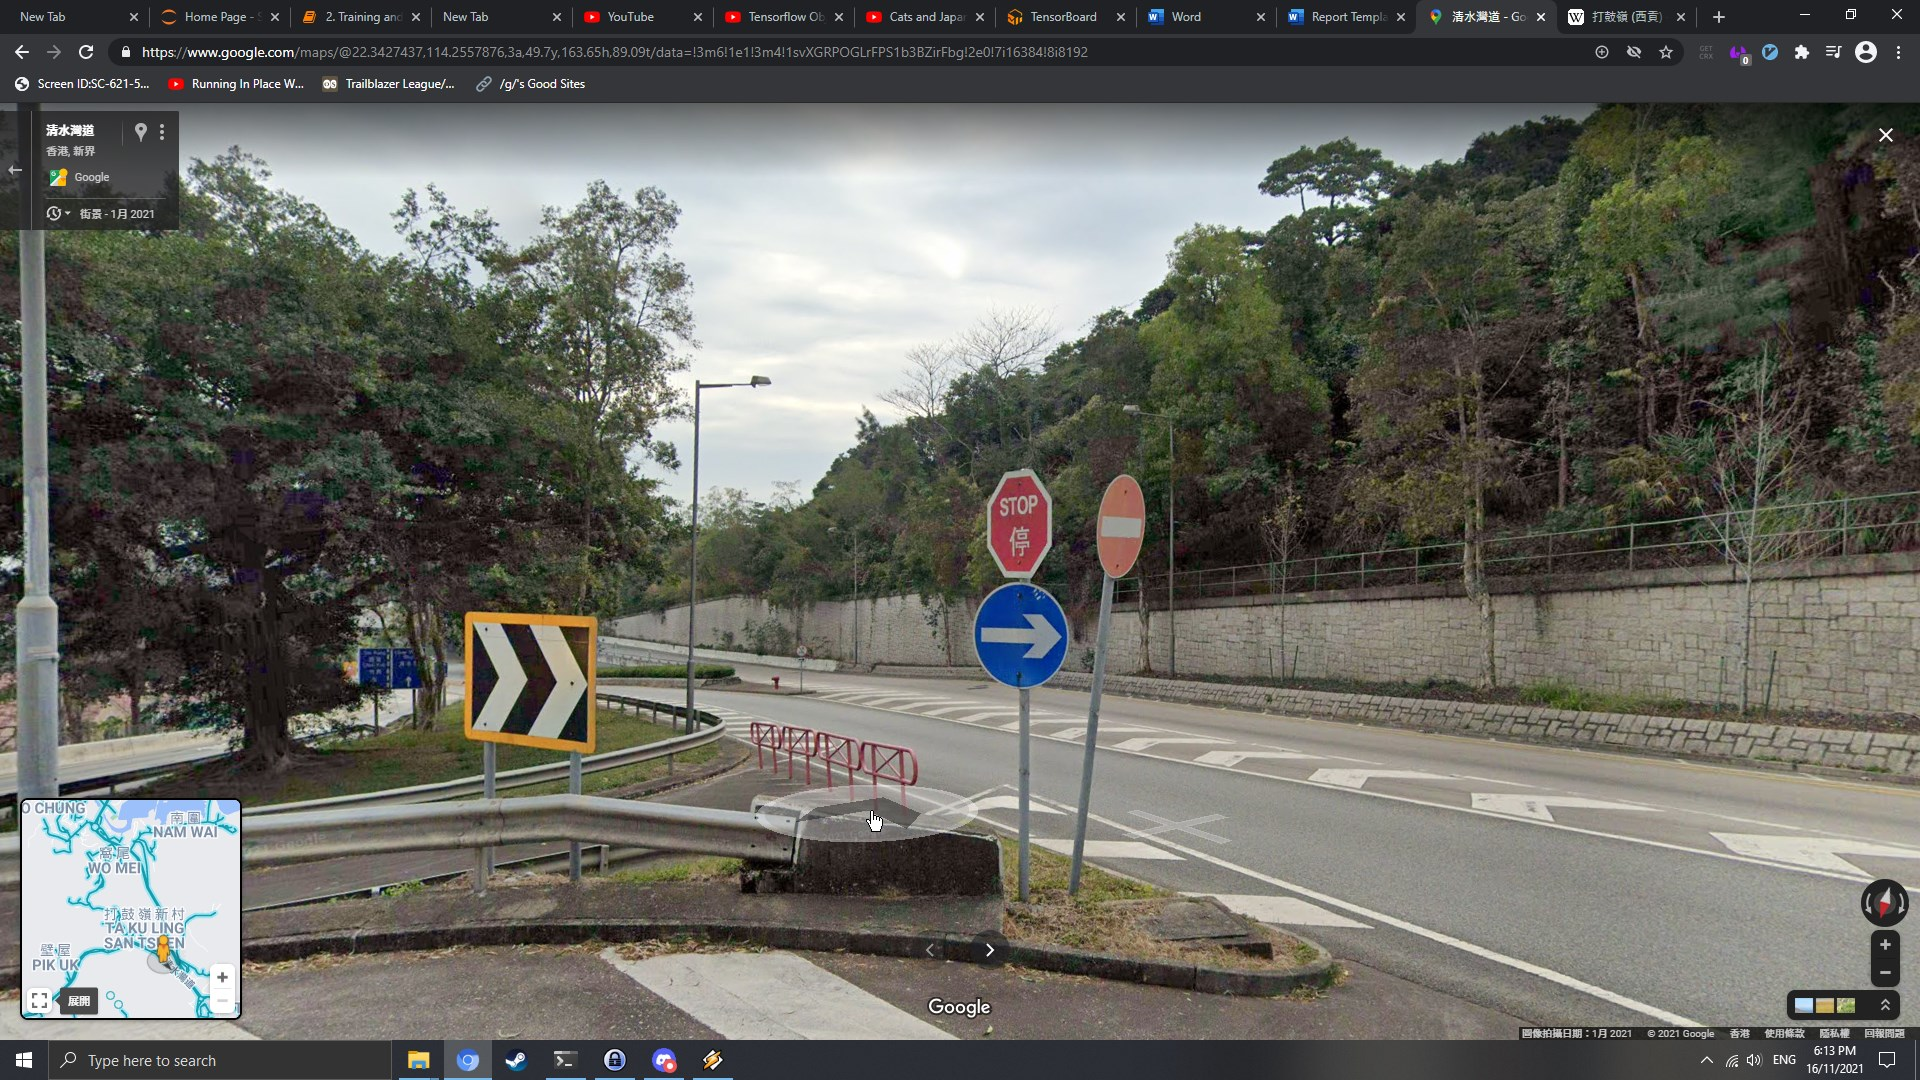NoEntry: (1097, 473, 1145, 578)
Stop: (986, 469, 1054, 579)
